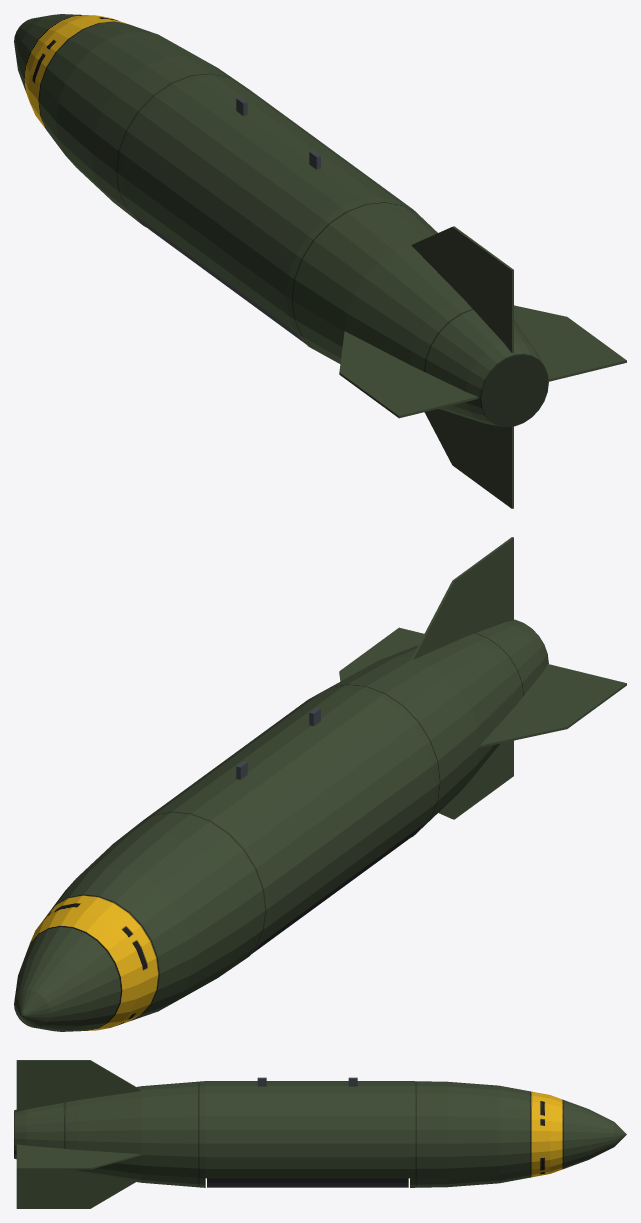
The model's file is CBU_Dispenser.fbx.
3 renders of one model, top to bottom at view 1: azimuth 30°, elevation 25°; view 2: azimuth 150°, elevation 25°; view 3: azimuth 270°, elevation 25°, orthographic. The views are drawn at different scales.
Parts seen in each view (by area): view 1: ClusterBomb_Dispenser, CBU_Door_L; view 2: ClusterBomb_Dispenser, CBU_Door_L; view 3: ClusterBomb_Dispenser, CBU_Door_R.
Boxes of the visible parts, <box> form: ClusterBomb_Dispenser: <box>14,14,626,508</box>; CBU_Door_L: <box>134,214,305,343</box>; ClusterBomb_Dispenser: <box>14,537,626,1031</box>; CBU_Door_L: <box>251,825,422,954</box>; ClusterBomb_Dispenser: <box>14,1060,626,1208</box>; CBU_Door_R: <box>207,1178,408,1187</box>.
Bounding box in the file's own units: 0.64 × 0.64 × 2.4.
5 materials, 5 textured.
